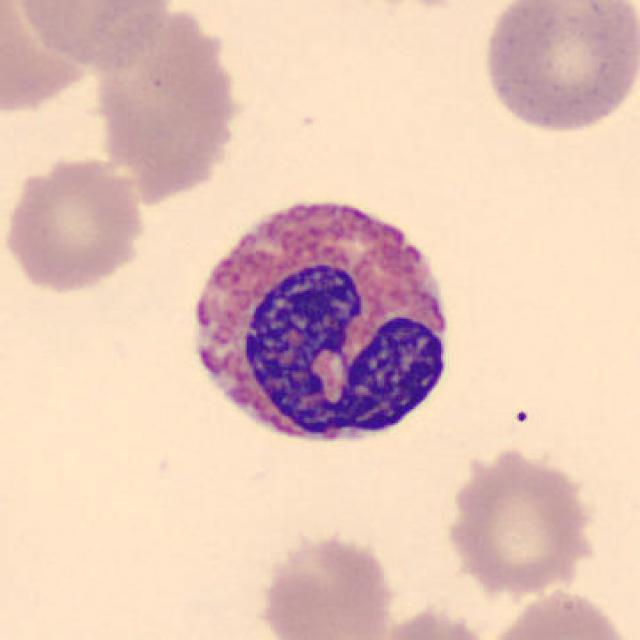Eosinophil: (174, 180, 464, 467)
RBC: (439, 442, 601, 598), (476, 0, 638, 138), (2, 150, 149, 296), (252, 525, 402, 640), (11, 0, 176, 71), (480, 585, 636, 640), (368, 603, 500, 640)
